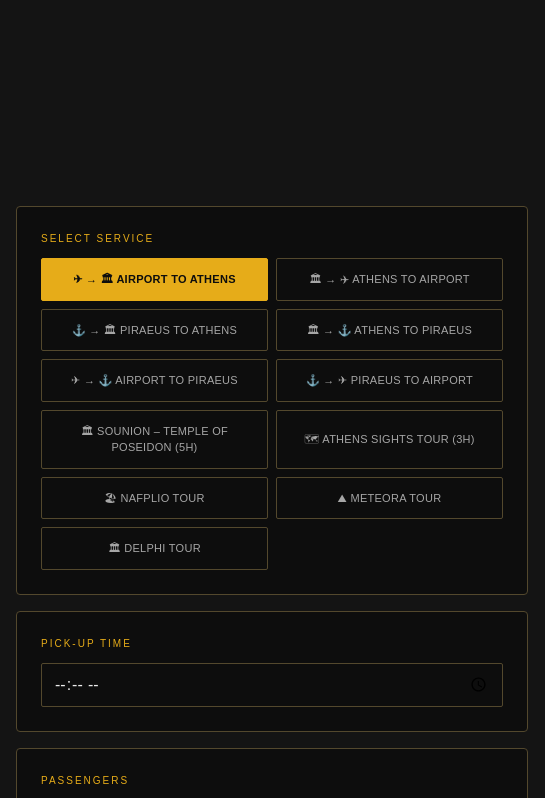
unchanged calculator fares and customer-initiated email drafts › turns night rate on only for pick-ups 00:00–04:59
The width and height of the screenshot is (545, 798).
Type "00:00" into the time field labelled "Pick-up time".
click(272, 684); type("00:00")  # box 41,662 -> 503,706
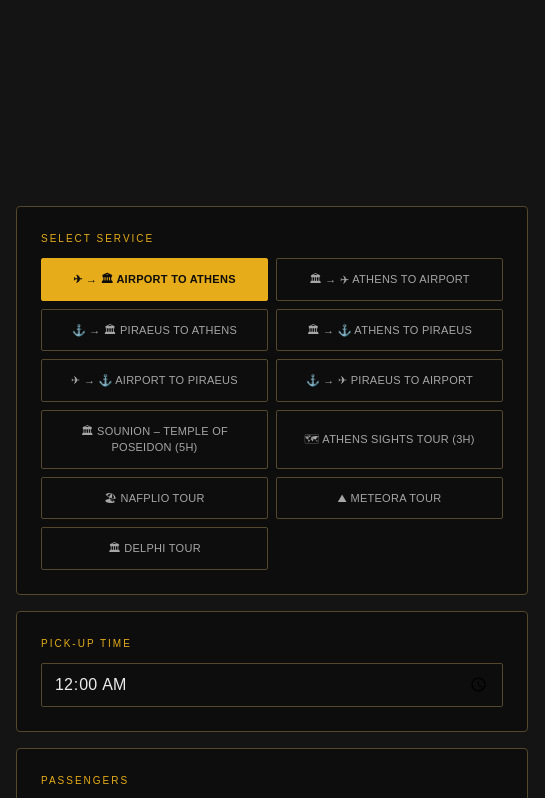
Replace the text in the time field labelled "Pick-up time" with "04:59" at {"x": 272, "y": 684}, box 41,662 -> 503,706
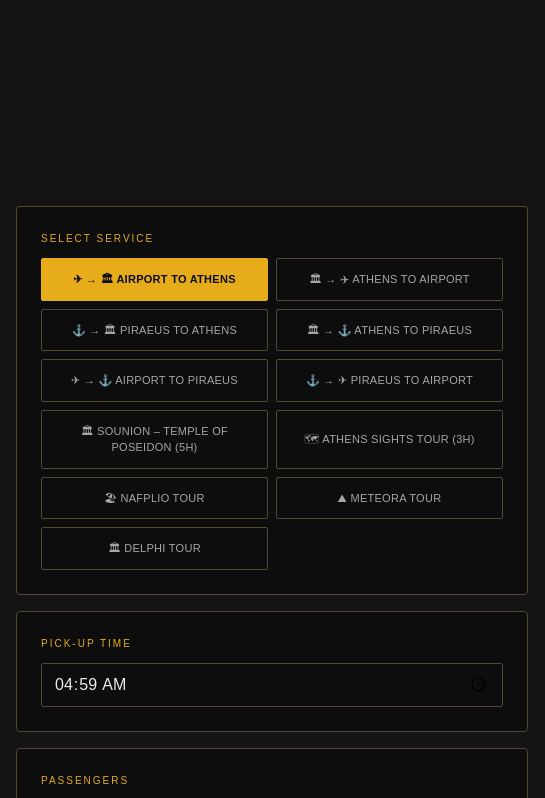
Replace the text in the time field labelled "Pick-up time" with "05:00" at {"x": 272, "y": 684}, box 41,662 -> 503,706
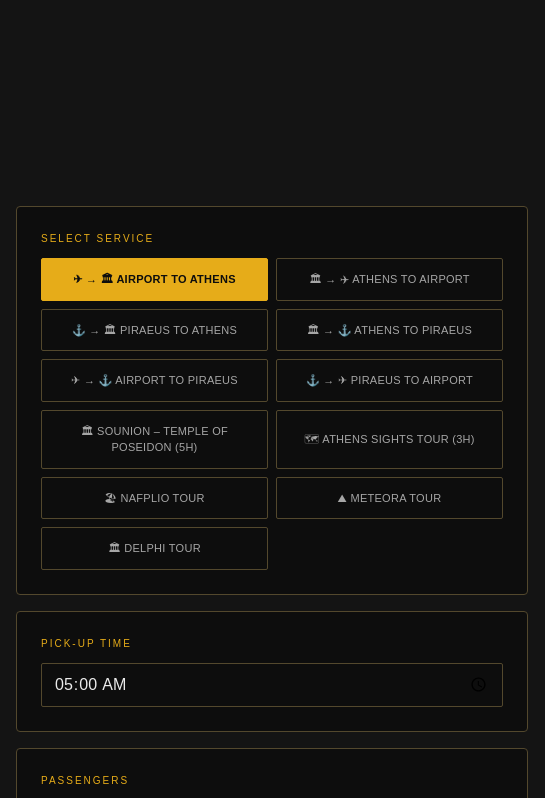
Replace the text in the time field labelled "Pick-up time" with "23:30" at {"x": 272, "y": 684}, box 41,662 -> 503,706
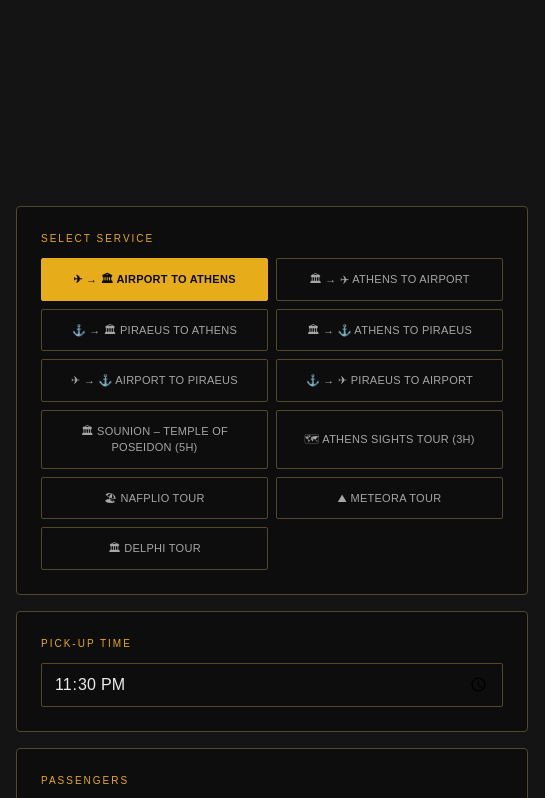
Replace the text in the time field labelled "Pick-up time" with "02:15" at {"x": 272, "y": 684}, box 41,662 -> 503,706
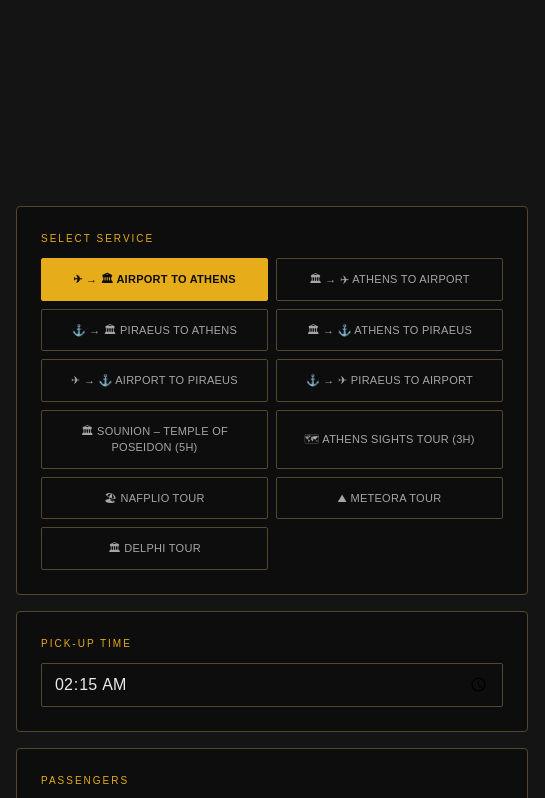
Replace the text in the time field labelled "Pick-up time" with "12:00" at {"x": 272, "y": 684}, box 41,662 -> 503,706
(page scrolled)
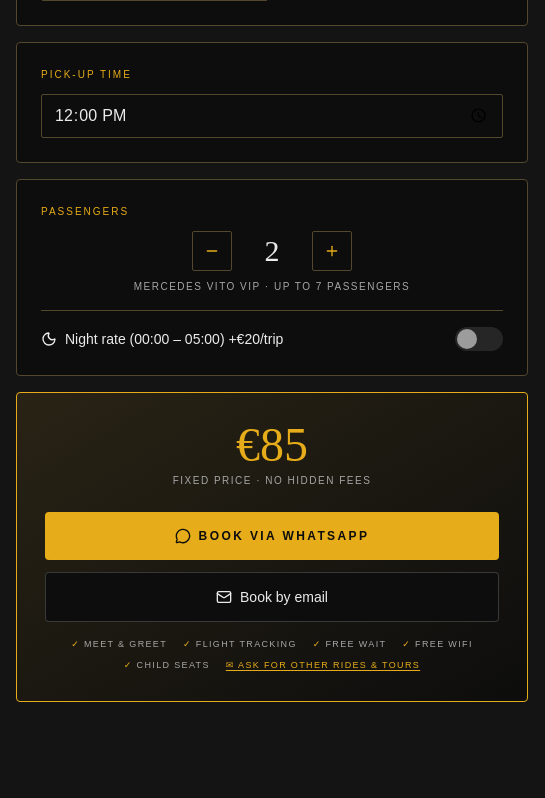
expect the text "€85" is shown: met, box 236,418 -> 308,470
